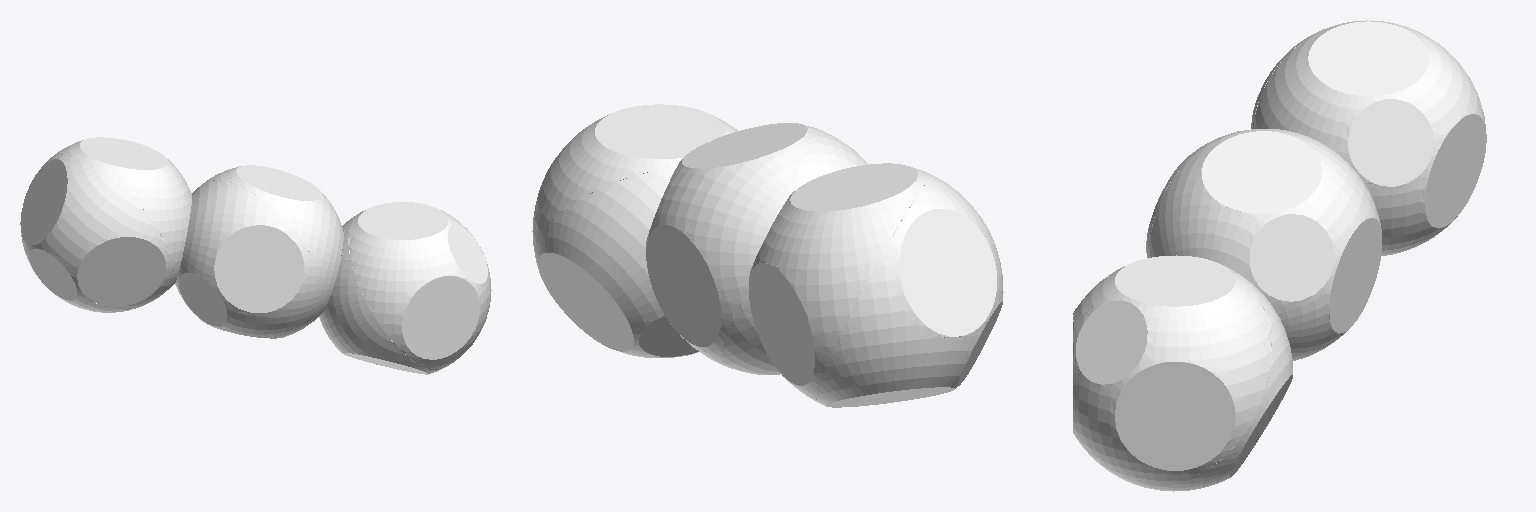
The robot description file, URDF, robot "RoomBot_URDF":
<?xml version="1.0" encoding="utf-8"?>
<!-- This URDF was automatically created by SolidWorks to URDF Exporter! Originally created by [author] ([email redacted]) 
     Commit Version: 1.6.0-1-g15f4949  Build Version: 1.6.7594.29634
     For more information, please see http://wiki.ros.org/sw_urdf_exporter -->
<robot
  name="RoomBot_URDF">
  <link
    name="roombot_link0">
    <inertial>
      <origin
        xyz="0.036828 0.067583 0.13162"
        rpy="0 0 0" />
      <mass
        value="0.50828" />
      <inertia
        ixx="0.00061202"
        ixy="9.3211E-05"
        ixz="9.3204E-05"
        iyy="0.00061205"
        iyz="9.3212E-05"
        izz="0.00061202" />
    </inertial>
    <visual>
      <origin
        xyz="0 0 0"
        rpy="0 0 0" />
      <geometry>
        <mesh
          filename="package://RoomBot_URDF/meshes/roombot_link0.STL" />
      </geometry>
      <material
        name="">
        <color
          rgba="1 1 1 1" />
      </material>
    </visual>
    <collision>
      <origin
        xyz="0 0 0"
        rpy="0 0 0" />
      <geometry>
        <mesh
          filename="package://RoomBot_URDF/meshes/roombot_link0.STL" />
      </geometry>
    </collision>
  </link>
  <link
    name="roombot_link1">
    <inertial>
      <origin
        xyz="-0.052348 -0.052346 -0.052348"
        rpy="0 0 0" />
      <mass
        value="0.50828" />
      <inertia
        ixx="0.00061204"
        ixy="9.3203E-05"
        ixz="9.3208E-05"
        iyy="0.00061205"
        iyz="9.3217E-05"
        izz="0.00061204" />
    </inertial>
    <visual>
      <origin
        xyz="0 0 0"
        rpy="0 0 0" />
      <geometry>
        <mesh
          filename="package://RoomBot_URDF/meshes/roombot_link1.STL" />
      </geometry>
      <material
        name="">
        <color
          rgba="1 1 1 1" />
      </material>
    </visual>
    <collision>
      <origin
        xyz="0 0 0"
        rpy="0 0 0" />
      <geometry>
        <mesh
          filename="package://RoomBot_URDF/meshes/roombot_link1.STL" />
      </geometry>
    </collision>
  </link>
  <joint
    name="roombot_joint1"
    type="continuous">
    <origin
      xyz="-0.041848 -0.052943 -0.011095"
      rpy="-2.6649 -0.29383 2.6649" />
    <parent
      link="roombot_link0" />
    <child
      link="roombot_link1" />
    <axis
      xyz="0.57735 0.57735 0.57735" />
  </joint>
  <link
    name="roombot_link2">
    <inertial>
      <origin
        xyz="0.0131643398860214 -0.0313216974307582 0.0131643368693097"
        rpy="0 0 0" />
      <mass
        value="0.508278610067439" />
      <inertia
        ixx="0.00061203082761765"
        ixy="9.32084506042224E-05"
        ixz="9.3212323577995E-05"
        iyy="0.000612053069078505"
        iyz="9.32146749457815E-05"
        izz="0.00061206108912461" />
    </inertial>
    <visual>
      <origin
        xyz="0 0 0"
        rpy="0 0 0" />
      <geometry>
        <mesh
          filename="package://RoomBot_URDF/meshes/roombot_link2.STL" />
      </geometry>
      <material
        name="">
        <color
          rgba="1 1 1 1" />
      </material>
    </visual>
    <collision>
      <origin
        xyz="0 0 0"
        rpy="0 0 0" />
      <geometry>
        <mesh
          filename="package://RoomBot_URDF/meshes/roombot_link2.STL" />
      </geometry>
    </collision>
  </link>
  <joint
    name="roombot_joint2"
    type="continuous">
    <origin
      xyz="0 -0.065512 -0.065512"
      rpy="-3.1416 1.2154 -1.5708" />
    <parent
      link="roombot_link1" />
    <child
      link="roombot_link2" />
    <axis
      xyz="0 1 0" />
  </joint>
  <link
    name="roombot_link3">
    <inertial>
      <origin
        xyz="0.027994 0.027996 0.027994"
        rpy="0 0 0" />
      <mass
        value="0.50828" />
      <inertia
        ixx="0.00061205"
        ixy="9.3208E-05"
        ixz="9.3209E-05"
        iyy="0.00061206"
        iyz="9.3211E-05"
        izz="0.00061205" />
    </inertial>
    <visual>
      <origin
        xyz="0 0 0"
        rpy="0 0 0" />
      <geometry>
        <mesh
          filename="package://RoomBot_URDF/meshes/roombot_link3.STL" />
      </geometry>
      <material
        name="">
        <color
          rgba="1 1 1 1" />
      </material>
    </visual>
    <collision>
      <origin
        xyz="0 0 0"
        rpy="0 0 0" />
      <geometry>
        <mesh
          filename="package://RoomBot_URDF/meshes/roombot_link3.STL" />
      </geometry>
    </collision>
  </link>
  <joint
    name="roombot_joint3"
    type="continuous">
    <origin
      xyz="0.014829 -0.029659 0.014829"
      rpy="2.3984 1.4515 -0.82765" />
    <parent
      link="roombot_link2" />
    <child
      link="roombot_link3" />
    <axis
      xyz="0.57735 0.57735 0.57735" />
  </joint>
  <link
    name="roombot_link4">
    <inertial>
      <origin
        xyz="0.013164 0.013166 -0.0994"
        rpy="0 0 0" />
      <mass
        value="0.50828" />
      <inertia
        ixx="0.00061203"
        ixy="9.3218E-05"
        ixz="9.3204E-05"
        iyy="0.00061207"
        iyz="9.3213E-05"
        izz="0.00061204" />
    </inertial>
    <visual>
      <origin
        xyz="0 0 0"
        rpy="0 0 0" />
      <geometry>
        <mesh
          filename="package://RoomBot_URDF/meshes/roombot_link4.STL" />
      </geometry>
      <material
        name="">
        <color
          rgba="1 1 1 1" />
      </material>
    </visual>
    <collision>
      <origin
        xyz="0 0 0"
        rpy="0 0 0" />
      <geometry>
        <mesh
          filename="package://RoomBot_URDF/meshes/roombot_link4.STL" />
      </geometry>
    </collision>
  </link>
  <joint
    name="roombot_joint4"
    type="continuous">
    <origin
      xyz="0.014829 0.012265 0.014829"
      rpy="-1.5708 0.099077 3.1416" />
    <parent
      link="roombot_link3" />
    <child
      link="roombot_link4" />
    <axis
      xyz="0 0 1" />
  </joint>
  <link
    name="roombot_link5">
    <inertial>
      <origin
        xyz="0.050686 0.050688 0.050686"
        rpy="0 0 0" />
      <mass
        value="0.50828" />
      <inertia
        ixx="0.00061202"
        ixy="9.3217E-05"
        ixz="9.3206E-05"
        iyy="0.00061204"
        iyz="9.3209E-05"
        izz="0.00061204" />
    </inertial>
    <visual>
      <origin
        xyz="0 0 0"
        rpy="0 0 0" />
      <geometry>
        <mesh
          filename="package://RoomBot_URDF/meshes/roombot_link5.STL" />
      </geometry>
      <material
        name="">
        <color
          rgba="1 1 1 1" />
      </material>
    </visual>
    <collision>
      <origin
        xyz="0 0 0"
        rpy="0 0 0" />
      <geometry>
        <mesh
          filename="package://RoomBot_URDF/meshes/roombot_link5.STL" />
      </geometry>
    </collision>
  </link>
  <joint
    name="roombot_joint5"
    type="continuous">
    <origin
      xyz="0.037521 0.037521 -0.075043"
      rpy="-0.93287 1.161 2.5037" />
    <parent
      link="roombot_link4" />
    <child
      link="roombot_link5" />
    <axis
      xyz="0.57735 0.57735 0.57735" />
  </joint>
</robot>

--- Render facts (derived) ---
3 views of the same robot in one strip: view 1: azimuth 30°, elevation 25°; view 2: azimuth 150°, elevation 25°; view 3: azimuth 270°, elevation 25° (orthographic).
Model RoomBot_URDF with 6 links and 5 joints (5 continuous), rooted at roombot_link0, posed all joints at 0.
Links seen in each view (by area): view 1: roombot_link0, roombot_link5, roombot_link3, roombot_link4, roombot_link2, roombot_link1; view 2: roombot_link5, roombot_link4, roombot_link2, roombot_link1, roombot_link0, roombot_link3; view 3: roombot_link0, roombot_link2, roombot_link4, roombot_link1.
Link boxes in pixels (x1=…): roombot_link0: x1=349, y1=202, x2=491, y2=368; roombot_link5: x1=20, y1=155, x2=173, y2=312; roombot_link3: x1=175, y1=180, x2=323, y2=338; roombot_link4: x1=51, y1=137, x2=191, y2=287; roombot_link2: x1=203, y1=165, x2=343, y2=315; roombot_link1: x1=319, y1=214, x2=440, y2=374; roombot_link5: x1=817, y1=176, x2=1003, y2=407; roombot_link4: x1=749, y1=163, x2=932, y2=401; roombot_link2: x1=646, y1=123, x2=821, y2=364; roombot_link1: x1=535, y1=167, x2=698, y2=357; roombot_link0: x1=532, y1=104, x2=737, y2=257; roombot_link3: x1=723, y1=131, x2=867, y2=374; roombot_link0: x1=1073, y1=255, x2=1271, y2=486; roombot_link2: x1=1150, y1=129, x2=1381, y2=360; roombot_link4: x1=1253, y1=21, x2=1486, y2=255; roombot_link1: x1=1127, y1=272, x2=1292, y2=491.
Size in the robot's own frame: 0.3047 by 0.2236 by 0.1783 metres.
Meshes: 6 distinct files referenced, 6 mesh visuals loaded (6 binary STL).